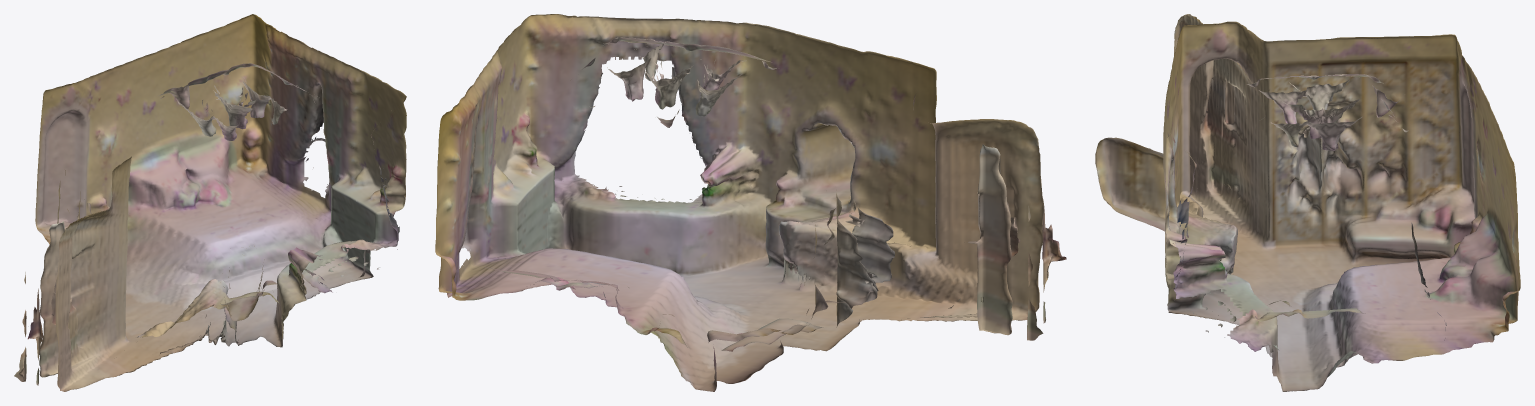
Rendered from opal wings bedroom_collider.glb.
3 renders of one model, left to right at view 1: azimuth 30°, elevation 25°; view 2: azimuth 150°, elevation 25°; view 3: azimuth 270°, elevation 25°, orthographic. The views are drawn at different scales.
Visible parts, largest first — view 1: world; view 2: world; view 3: world.
Part boxes in pixels (x1=…): world: x1=14, y1=14, x2=406, y2=391; world: x1=435, y1=14, x2=1066, y2=391; world: x1=1095, y1=14, x2=1520, y2=391.
Bounding box in the file's own units: 7.45 × 3.46 × 5.9.
